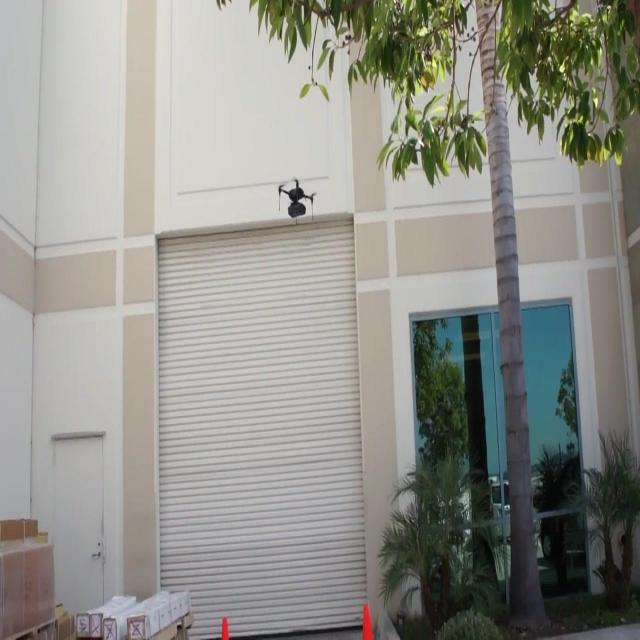UAV: (278, 178, 318, 226)
